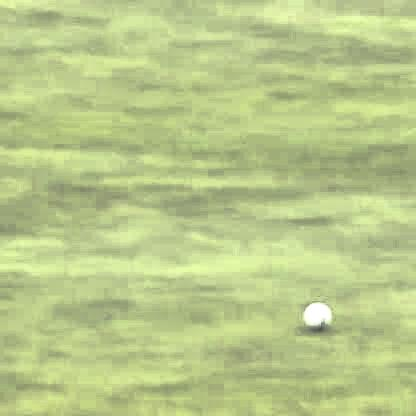golfball: (300, 299, 328, 329)
